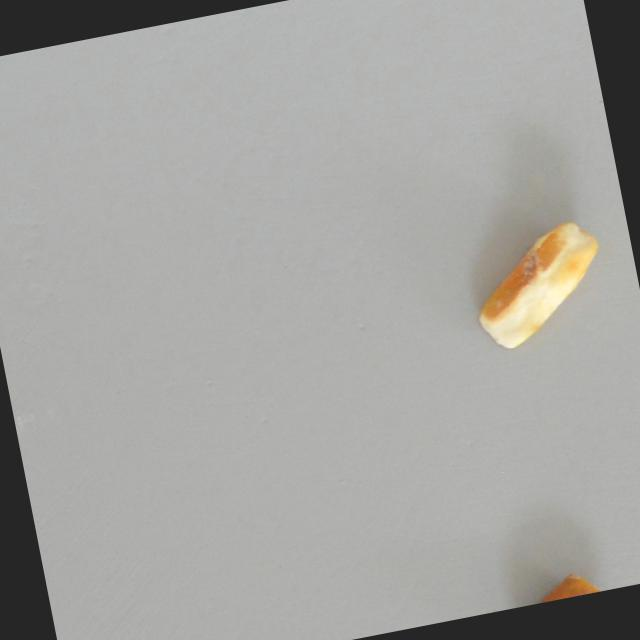dañado: (453, 210, 621, 359), (502, 563, 613, 610)
